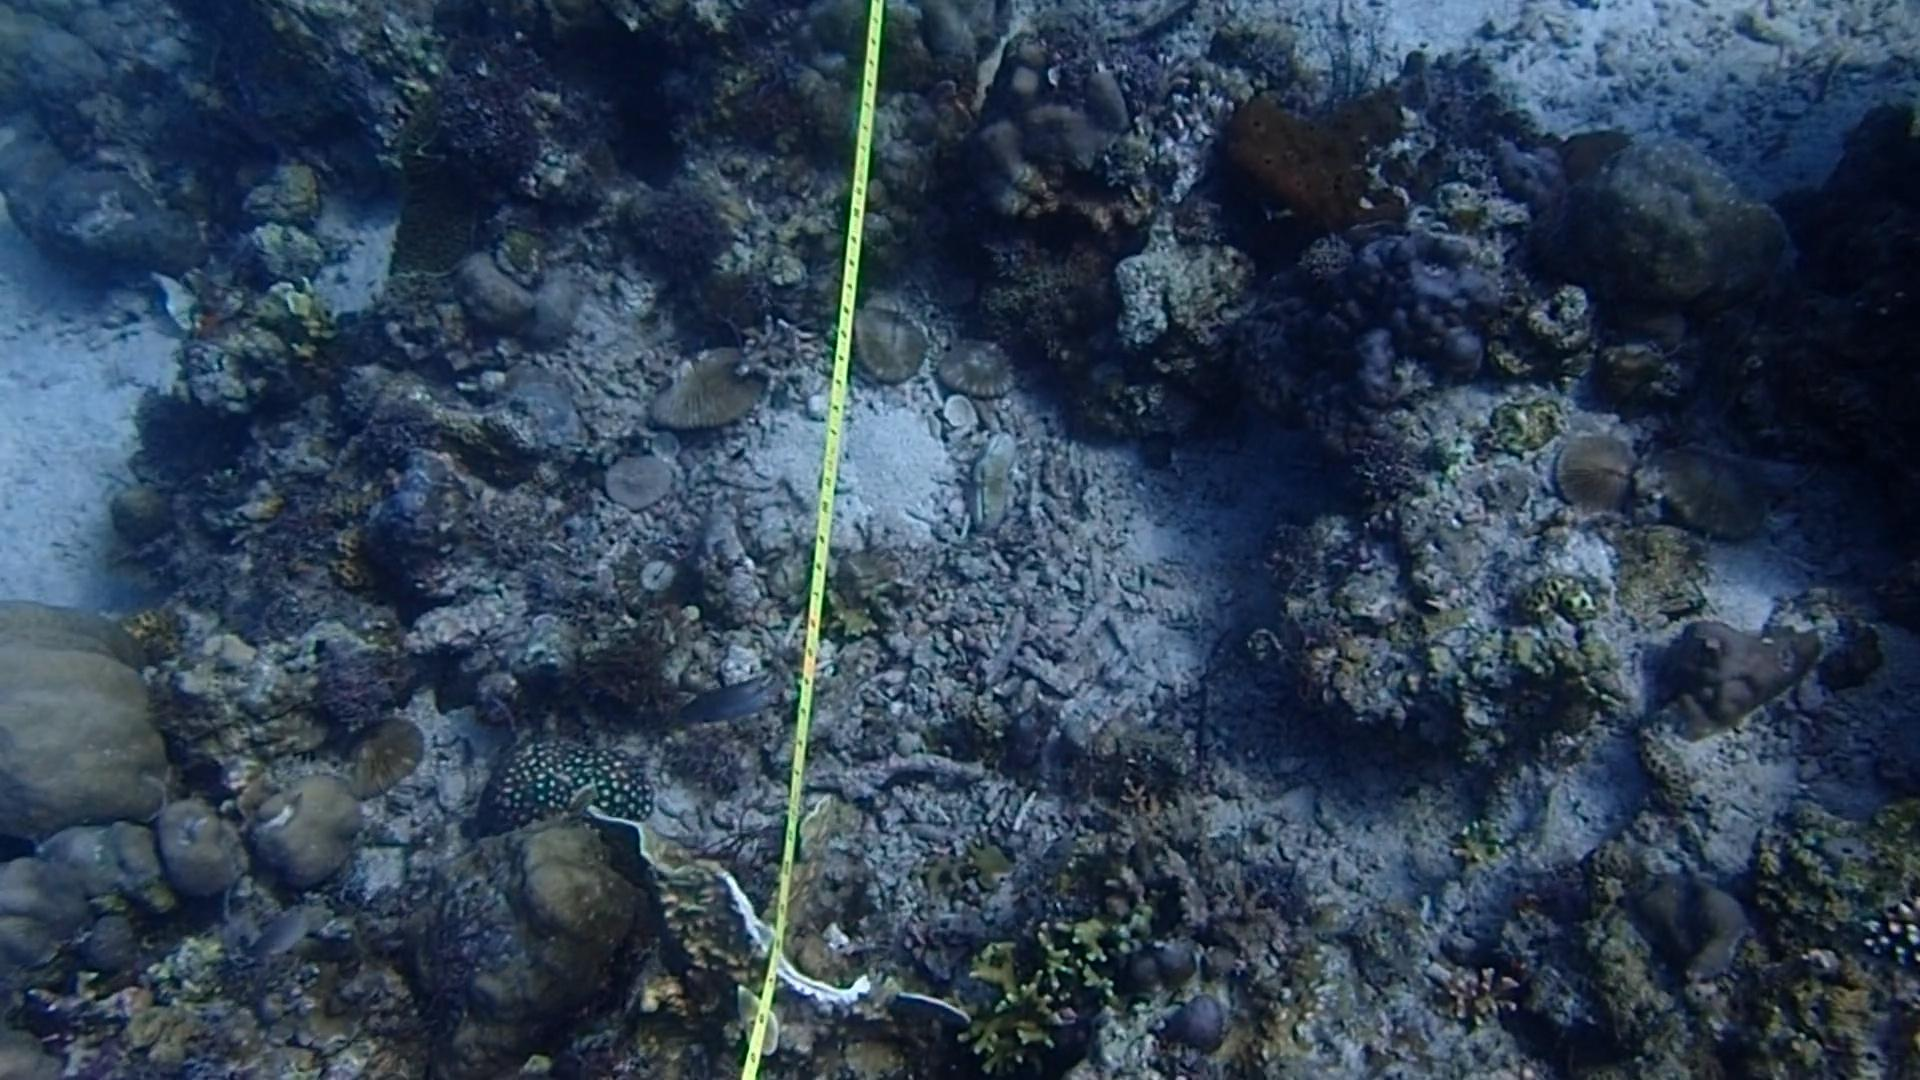Light Fish: (683, 655, 787, 749)
